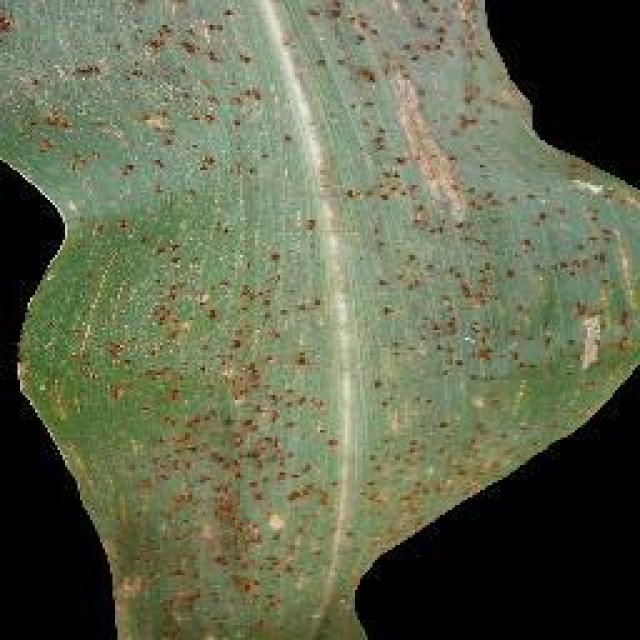Corn Common Rust: (73, 43, 512, 635)
